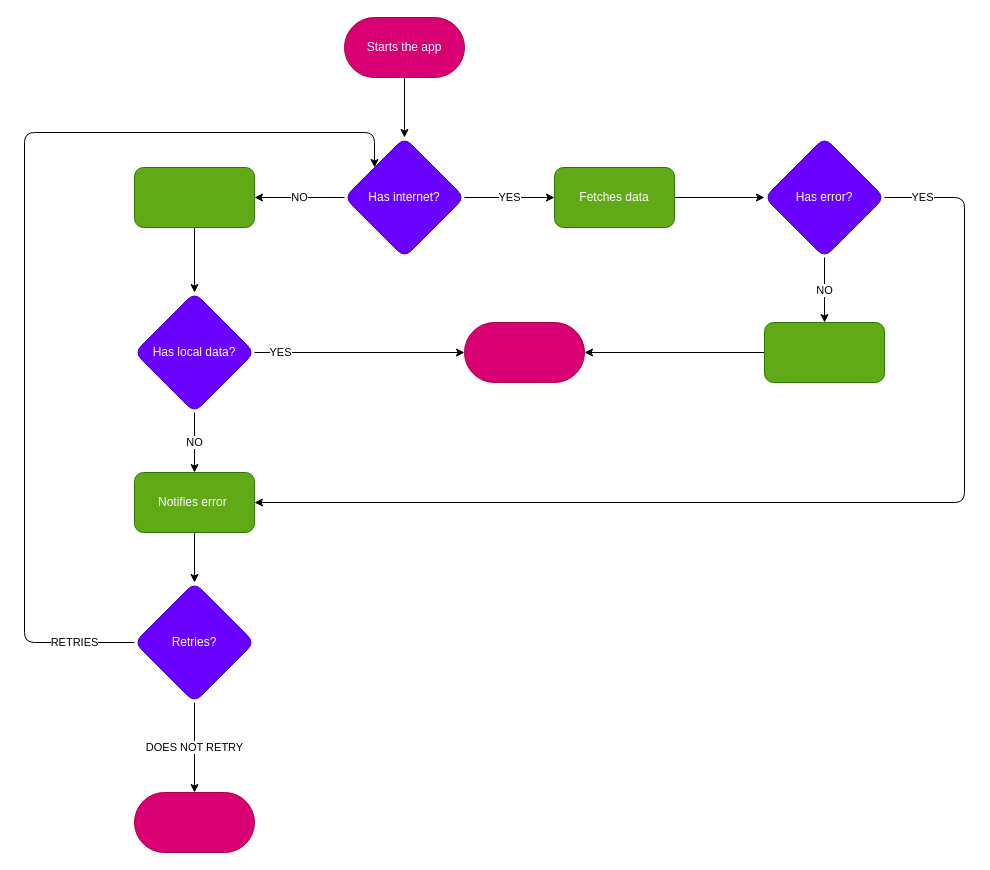
Some shapes in this 990 by 870 pixel diagram are drawn without their labels. The centre of each missing label's shape, as x and y in pixels:
"Shows data" belongs at (x=524, y=352).
"Shows empty state" belongs at (x=194, y=822).
"Shows offline status" belongs at (x=194, y=197).
"Updates local data" belongs at (x=824, y=352).
